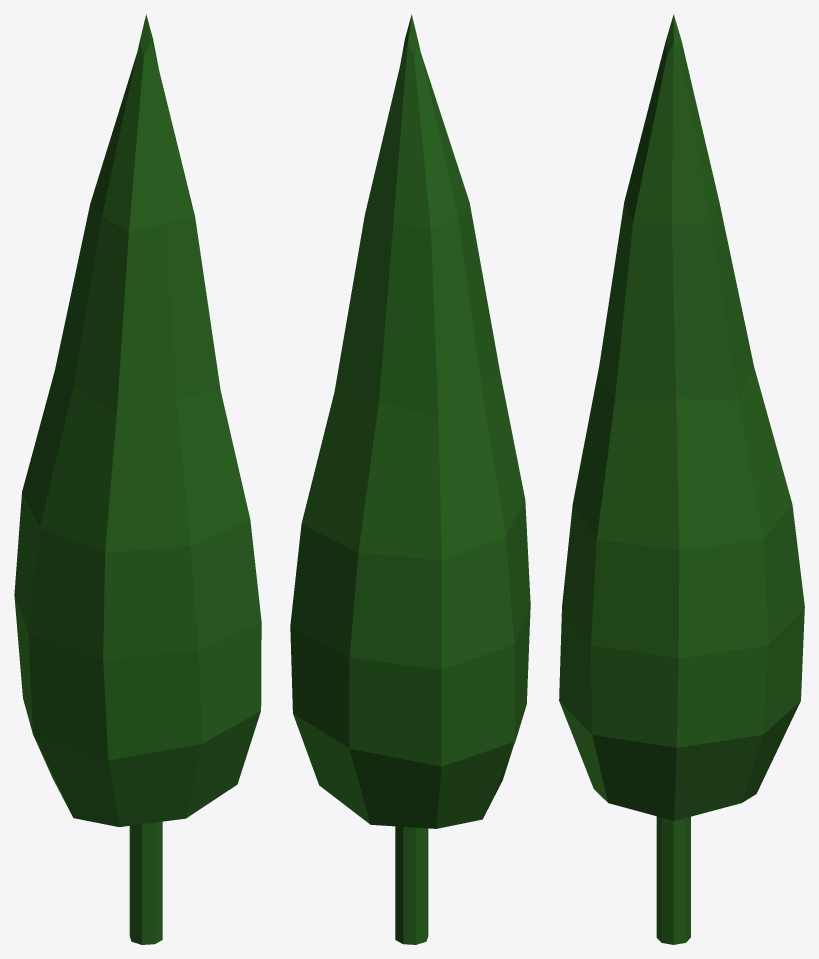
Rendered from cypressTree_2.fbx.
The picture shows the model from 3 angles, left to right: view 1: azimuth 30°, elevation 25°; view 2: azimuth 150°, elevation 25°; view 3: azimuth 270°, elevation 25°; orthographic projection.
Parts seen in each view (by area): view 1: cypressTree_2; view 2: cypressTree_2; view 3: cypressTree_2.
Boxes of the visible parts, bbox=[...] form: cypressTree_2: bbox=[14, 14, 261, 944]; cypressTree_2: bbox=[290, 14, 530, 944]; cypressTree_2: bbox=[559, 14, 804, 944].
Size of the model in its own units: 1.72 by 7.03 by 1.69.
